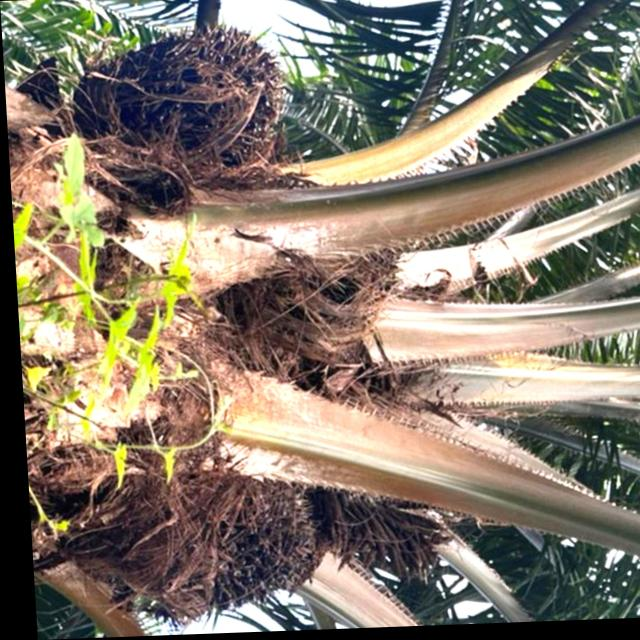unripe: (70, 19, 289, 203), (104, 465, 315, 638)
